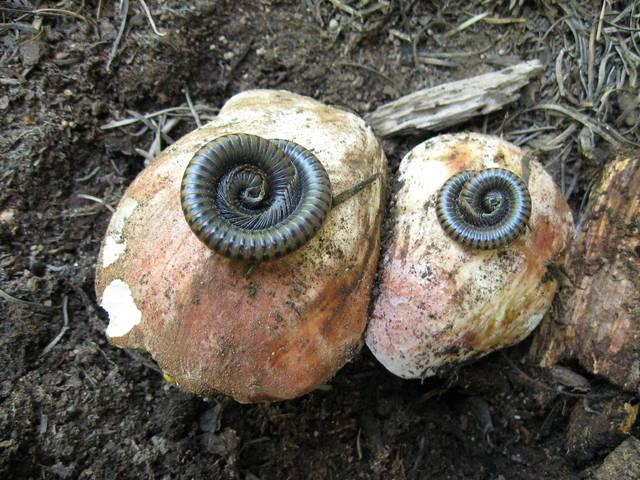Edible Mushroom: (93, 86, 390, 404), (363, 130, 576, 381)
